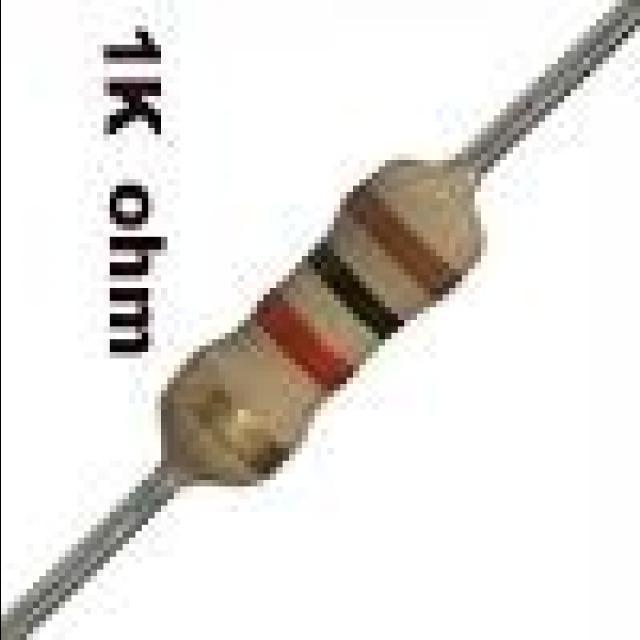Resistor: (162, 159, 483, 485)
black: (303, 239, 406, 342)
brown: (340, 178, 461, 301)
gold: (170, 349, 299, 481)
red: (255, 296, 352, 390)
